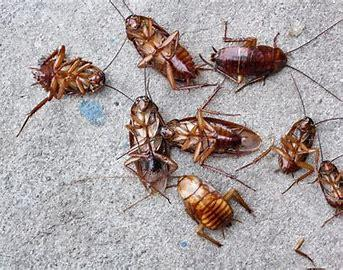cockroach: (94, 77, 181, 201), (99, 1, 216, 93), (9, 41, 118, 135), (158, 82, 271, 172), (205, 18, 337, 89), (265, 88, 337, 194), (168, 171, 263, 249), (312, 151, 343, 243)
